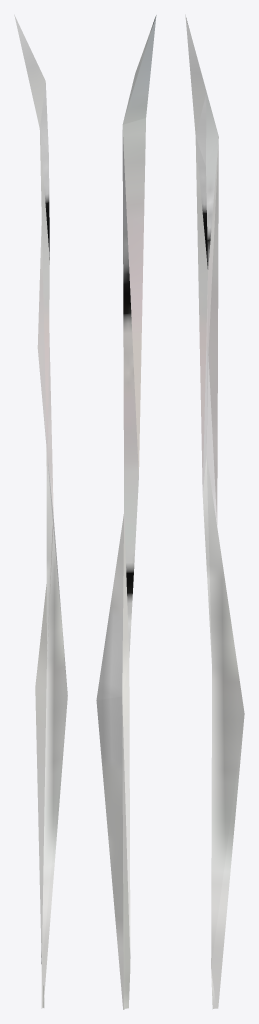
The model's file is Tile_+004_+012_L20_0uuuu31.glb.
The picture shows the model from 3 angles, left to right: view 1: azimuth 30°, elevation 25°; view 2: azimuth 150°, elevation 25°; view 3: azimuth 330°, elevation 25°; orthographic projection.
Visible parts, largest first — view 1: rtc; view 2: rtc; view 3: rtc.
Boxes of the visible parts, left/top/right/bottom form: rtc: left=14, top=14, right=67, bottom=1008; rtc: left=96, top=15, right=156, bottom=1009; rtc: left=185, top=14, right=244, bottom=1009.
Bounding box in the file's own units: 0.367 × 6.18 × 0.1624.
1 material, 1 textured.
